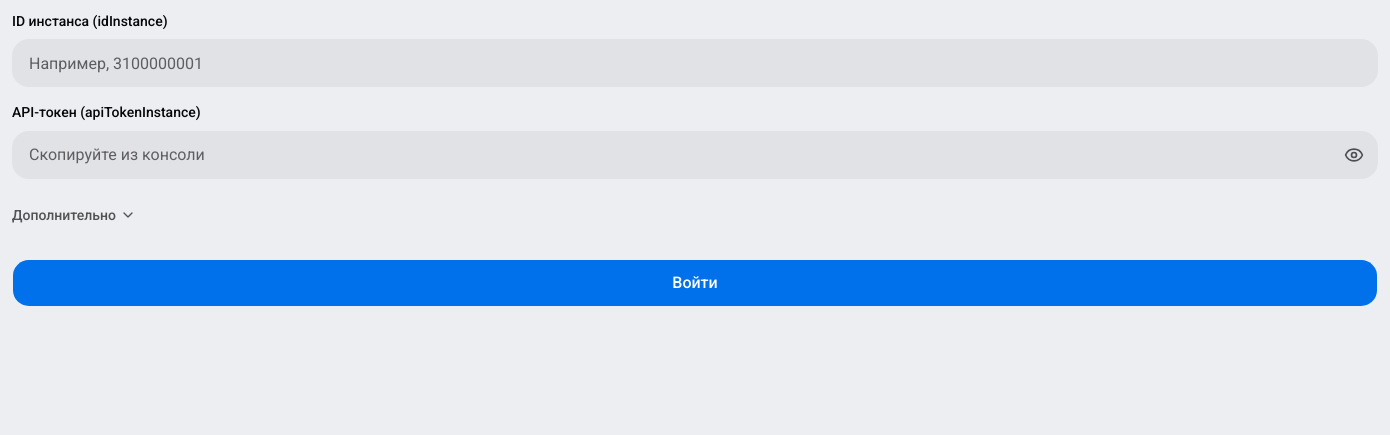
Test: LoginForm › rejects an apiUrl that is not https
In the field labelled "ID инстанса (idInstance)": (695, 63) [12, 39, 1378, 87], type "3100000001"
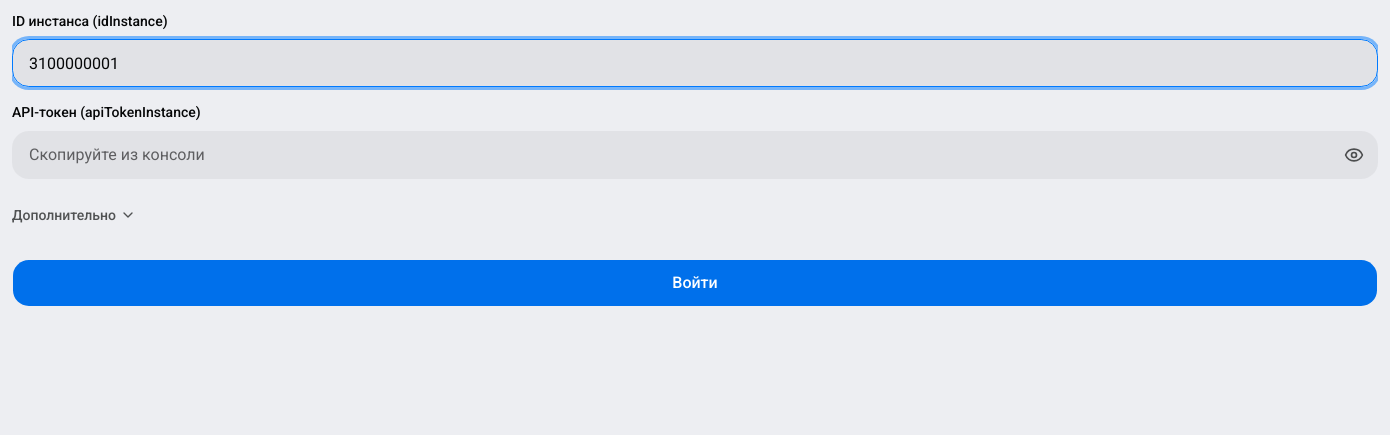
In the password field labelled "API-токен (apiTokenInstance)": (695, 154) [12, 130, 1378, 178], type "tok"
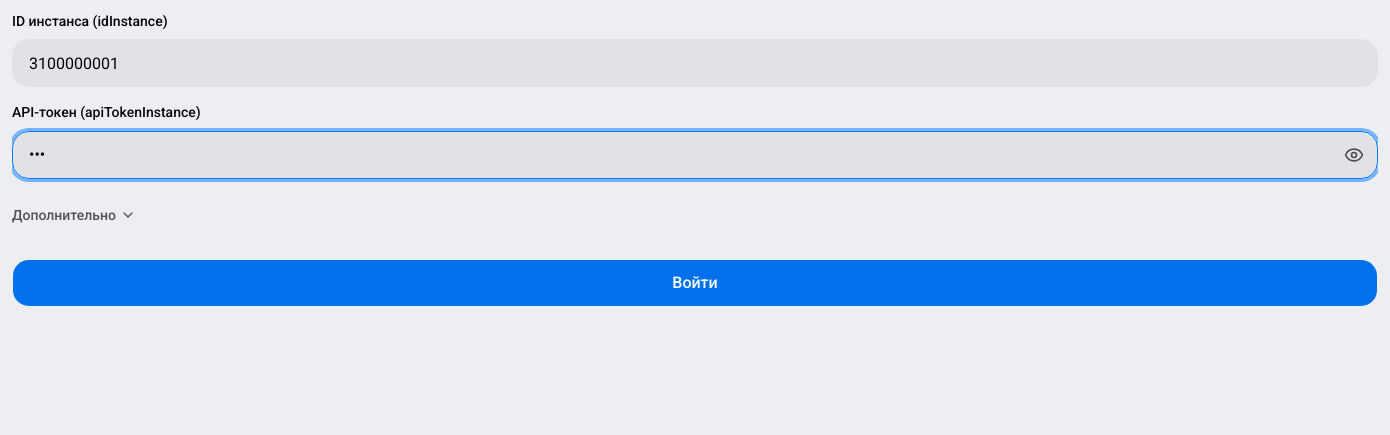
Click the button "Дополнительно": (74, 214) [12, 194, 136, 234]
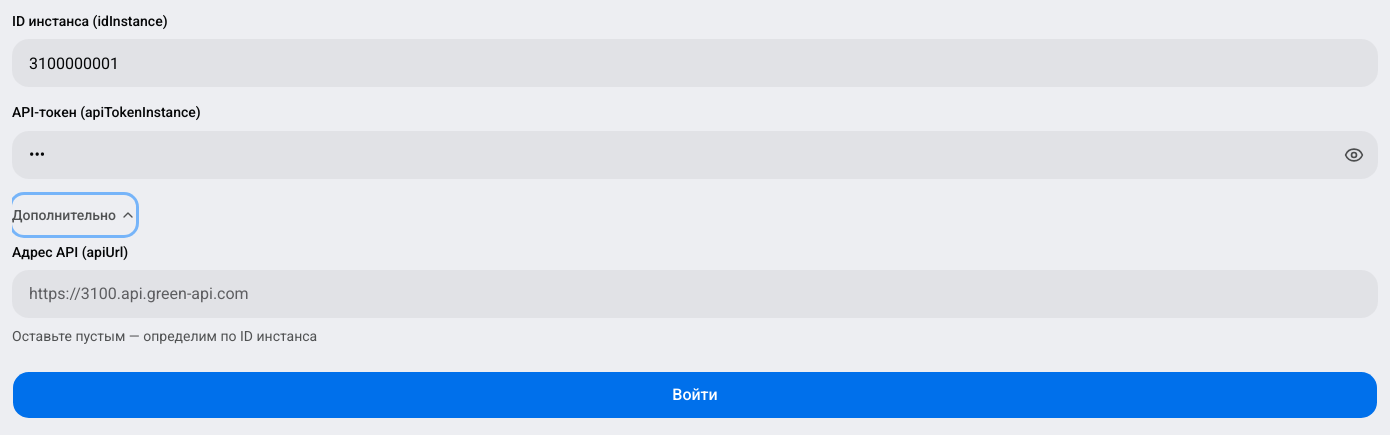
In the field labelled "Адрес API (apiUrl)": (695, 294) [12, 270, 1378, 318], type "http://x"
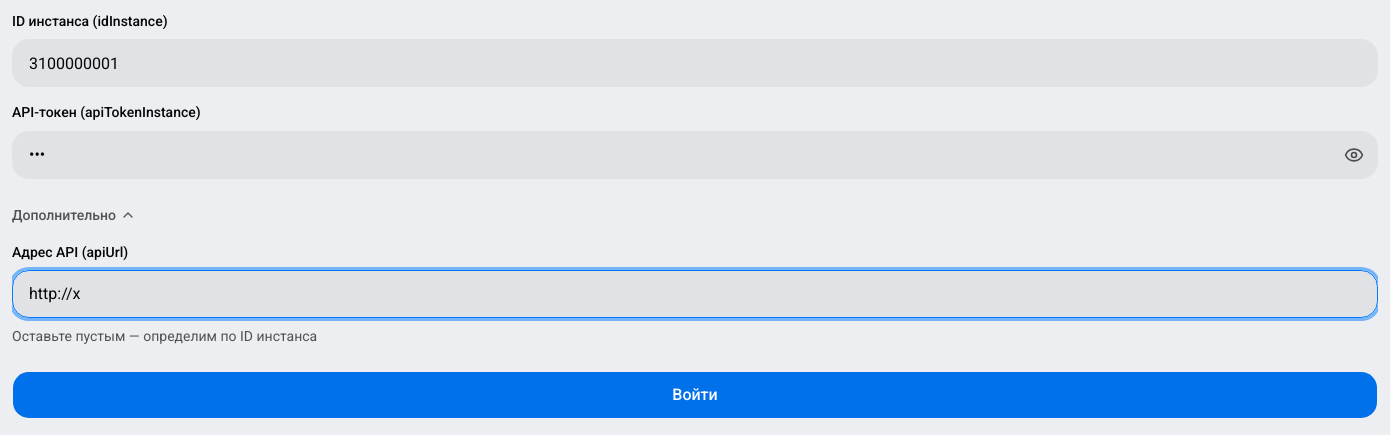
Click the button "Войти": (695, 395) [12, 371, 1378, 419]
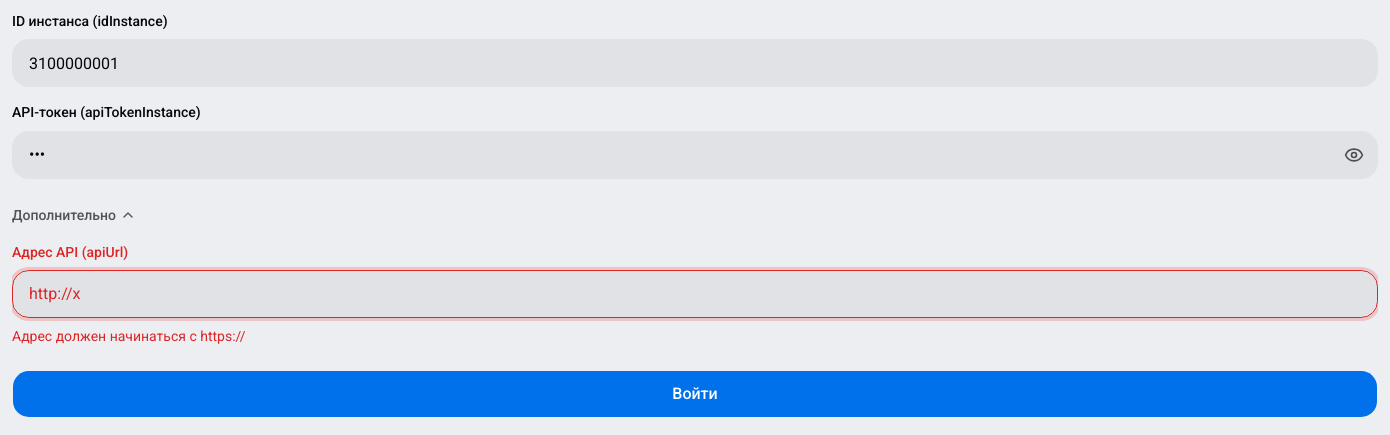
Result: the text "Адрес должен начинаться с https://" is shown at [12, 328, 246, 344]
